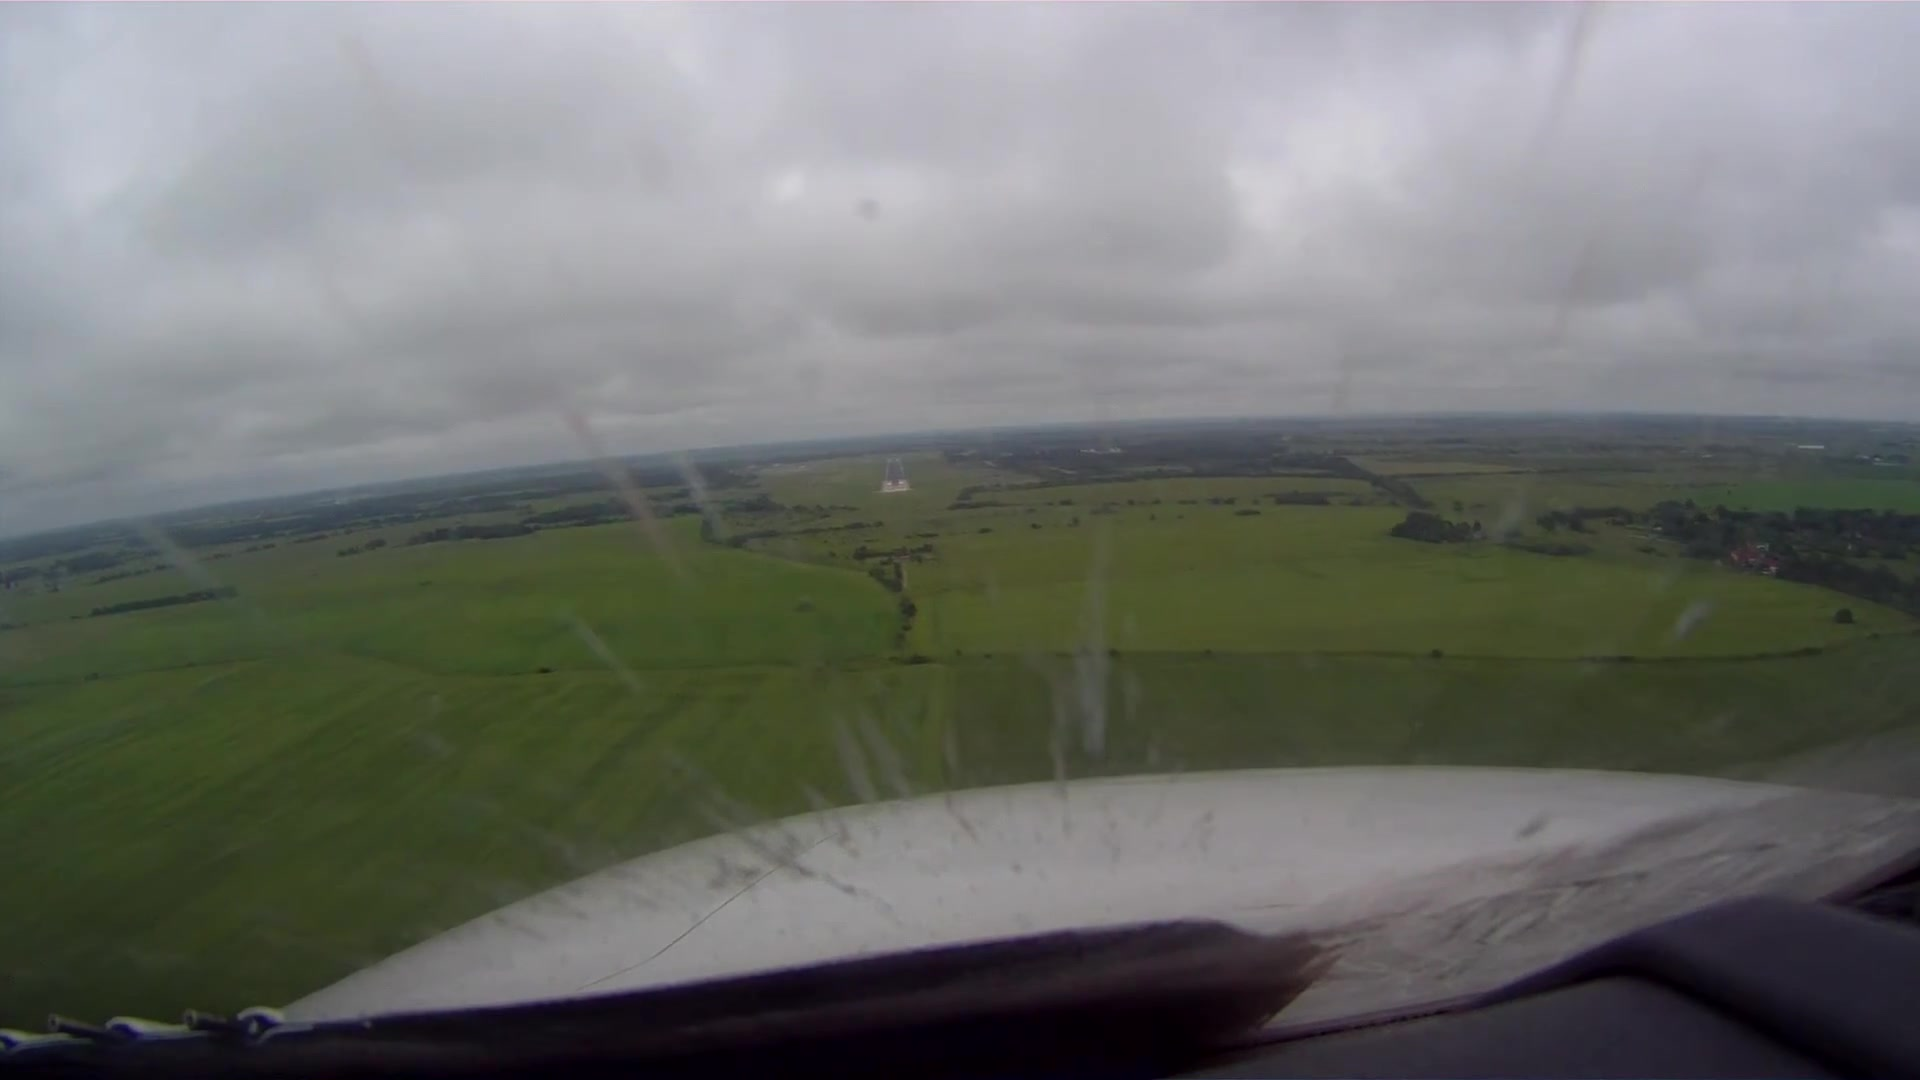runway: (878, 455, 911, 496)
